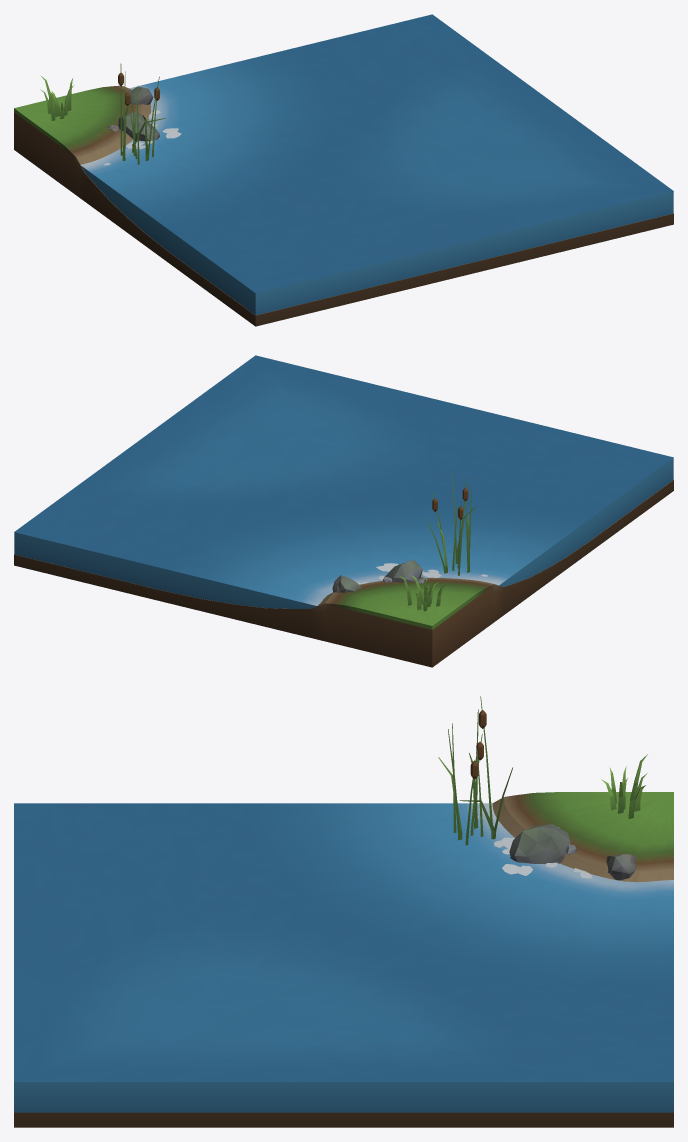
Rendered from lake-shore-corner-out.glb.
The picture shows the model from 3 angles, top to bottom: view 1: azimuth 30°, elevation 25°; view 2: azimuth 150°, elevation 25°; view 3: azimuth 270°, elevation 25°; orthographic projection. The views are drawn at different scales.
Visible parts, largest first — view 1: lake_shore_corner_out; view 2: lake_shore_corner_out; view 3: lake_shore_corner_out.
Boxes of the visible parts, x1,y1,x2,y2 form: lake_shore_corner_out: (14, 14, 673, 326); lake_shore_corner_out: (14, 355, 673, 667); lake_shore_corner_out: (14, 696, 673, 1127).
Bounding box in the file's own units: 4 × 1.18 × 4.
